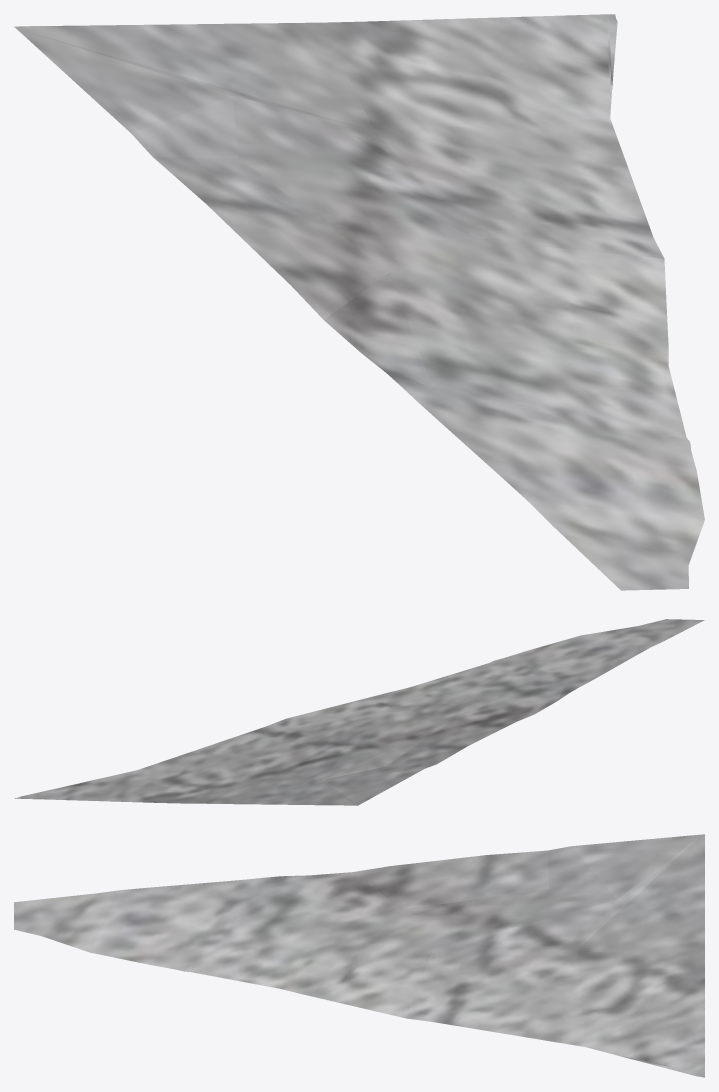
3 renders of one model, top to bottom at view 1: azimuth 30°, elevation 25°; view 2: azimuth 150°, elevation 25°; view 3: azimuth 270°, elevation 25°, orthographic. The views are drawn at different scales.
Bounding box in the file's own units: 0.4788 × 0.1023 × 0.8374.
1 material, 1 textured.
